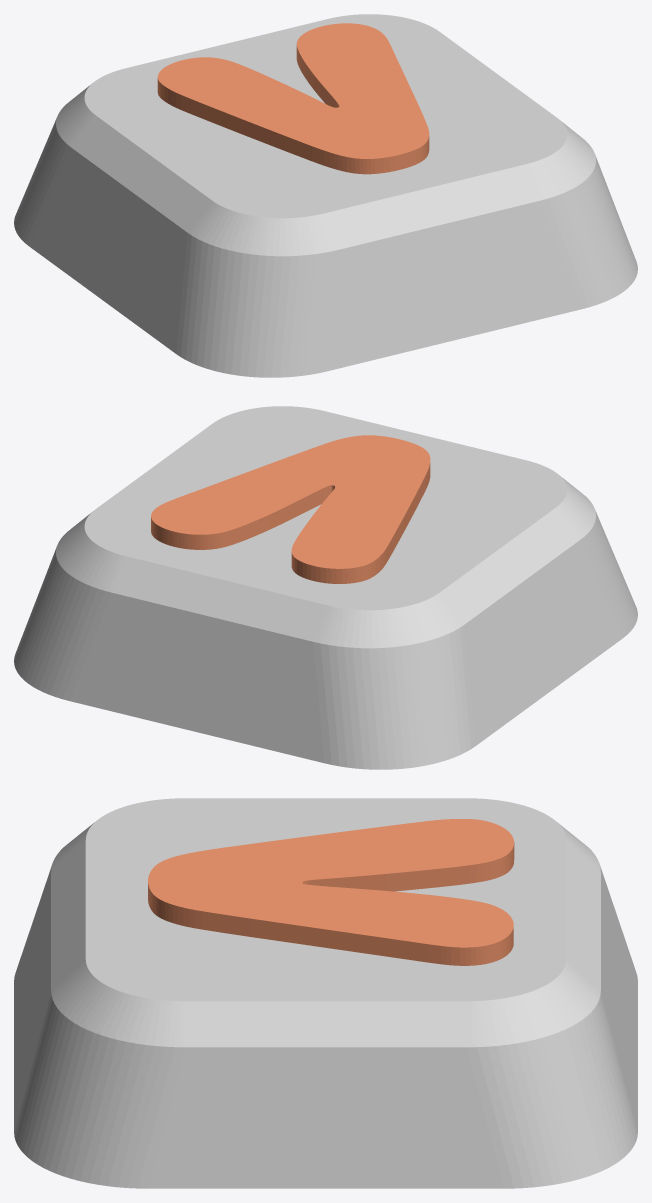
File: cap-V.glb
The picture shows the model from 3 angles, top to bottom: view 1: azimuth 30°, elevation 25°; view 2: azimuth 150°, elevation 25°; view 3: azimuth 270°, elevation 25°; orthographic projection. The views are drawn at different scales.
Visible parts, largest first — view 1: cap_0, glyph_1; view 2: cap_0, glyph_1; view 3: cap_0, glyph_1.
Boxes of the visible parts, box(x1,y1,x2,y2) form: cap_0: box(14, 14, 637, 377); glyph_1: box(157, 23, 429, 174); cap_0: box(14, 406, 637, 769); glyph_1: box(151, 435, 430, 583); cap_0: box(14, 798, 637, 1188); glyph_1: box(148, 819, 514, 965).
Bounding box in the file's own units: 18 × 5.59 × 18.
